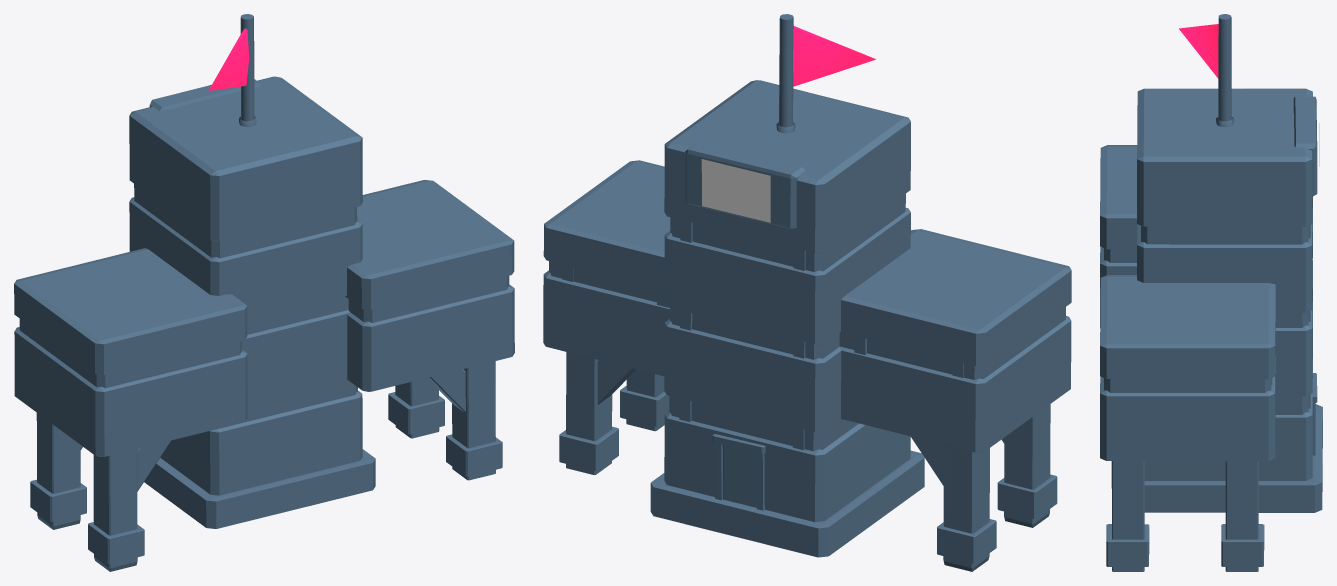
Rendered from big-building.fbx.
3 views of the same model, side by side, from view 1: azimuth 30°, elevation 25°; view 2: azimuth 150°, elevation 25°; view 3: azimuth 270°, elevation 25° (orthographic). The views are drawn at different scales.
Visible parts, largest first — view 1: Cube__19__1.001, Cube__16__1.002, Cube__15__1.002; view 2: Cube__19__1.001, MultiplierText__1_.001, Cube__16__1.002, Cube__15__1.002; view 3: Cube__19__1.001, Cube__15__1.002, Cube__16__1.002.
Part boxes in pixels (<box>): Cube__19__1.001: <box>14,76,514,571</box>; Cube__16__1.002: <box>208,28,249,90</box>; Cube__15__1.002: <box>240,14,254,121</box>; Cube__19__1.001: <box>543,80,1071,571</box>; MultiplierText__1_.001: <box>701,159,770,222</box>; Cube__16__1.002: <box>793,26,875,86</box>; Cube__15__1.002: <box>779,14,793,127</box>; Cube__19__1.001: <box>1100,88,1322,571</box>; Cube__15__1.002: <box>1218,14,1231,121</box>; Cube__16__1.002: <box>1179,24,1218,78</box>.
Bounding box in the file's own units: 663 × 704 × 305.
